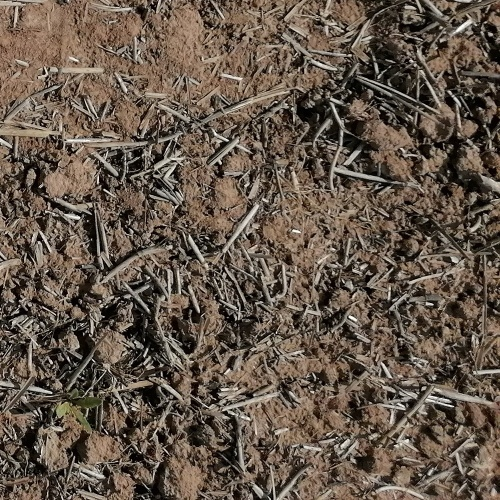beet: (58, 390, 103, 436)
